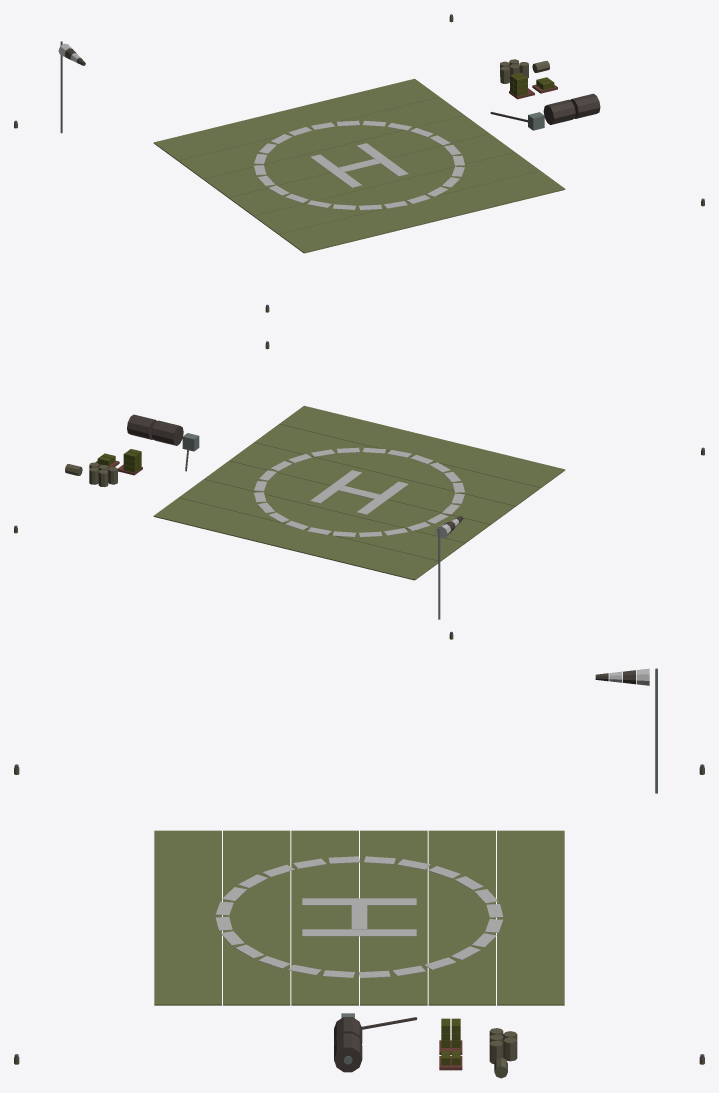
Rendered from SM_Helipuerto_v1_LOD0.fbx.
The picture shows the model from 3 angles, top to bottom: view 1: azimuth 30°, elevation 25°; view 2: azimuth 150°, elevation 25°; view 3: azimuth 270°, elevation 25°; orthographic projection. The views are drawn at different scales.
Visible parts, largest first — view 1: SM_bloques.helipuerto_v1_LOD0; view 2: SM_bloques.helipuerto_v1_LOD0; view 3: SM_bloques.helipuerto_v1_LOD0.
Part boxes in pixels (left/top/right/bottom): SM_bloques.helipuerto_v1_LOD0: left=14, top=16, right=704, bottom=312; SM_bloques.helipuerto_v1_LOD0: left=14, top=343, right=704, bottom=639; SM_bloques.helipuerto_v1_LOD0: left=14, top=668, right=704, bottom=1078.
Bounding box in the file's own units: 31.66 × 6 × 30.24.
